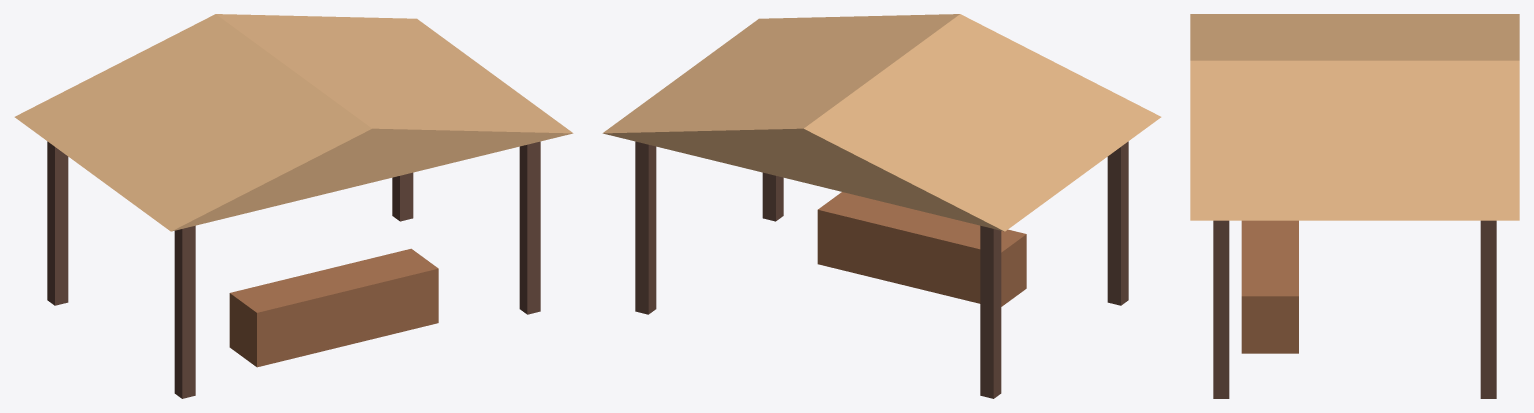
Rendered from shade-station.glb.
3 renders of one model, left to right at view 1: azimuth 30°, elevation 25°; view 2: azimuth 150°, elevation 25°; view 3: azimuth 270°, elevation 25°, orthographic. The views are drawn at different scales.
Visible parts, largest first — view 1: shade-station; view 2: shade-station; view 3: shade-station.
Part boxes in pixels (x1,y1,x2,y2): shade-station: (14, 14, 573, 398); shade-station: (602, 14, 1161, 398); shade-station: (1190, 14, 1519, 398).
Bounding box in the file's own units: 6.65 × 3.7 × 4.48.
